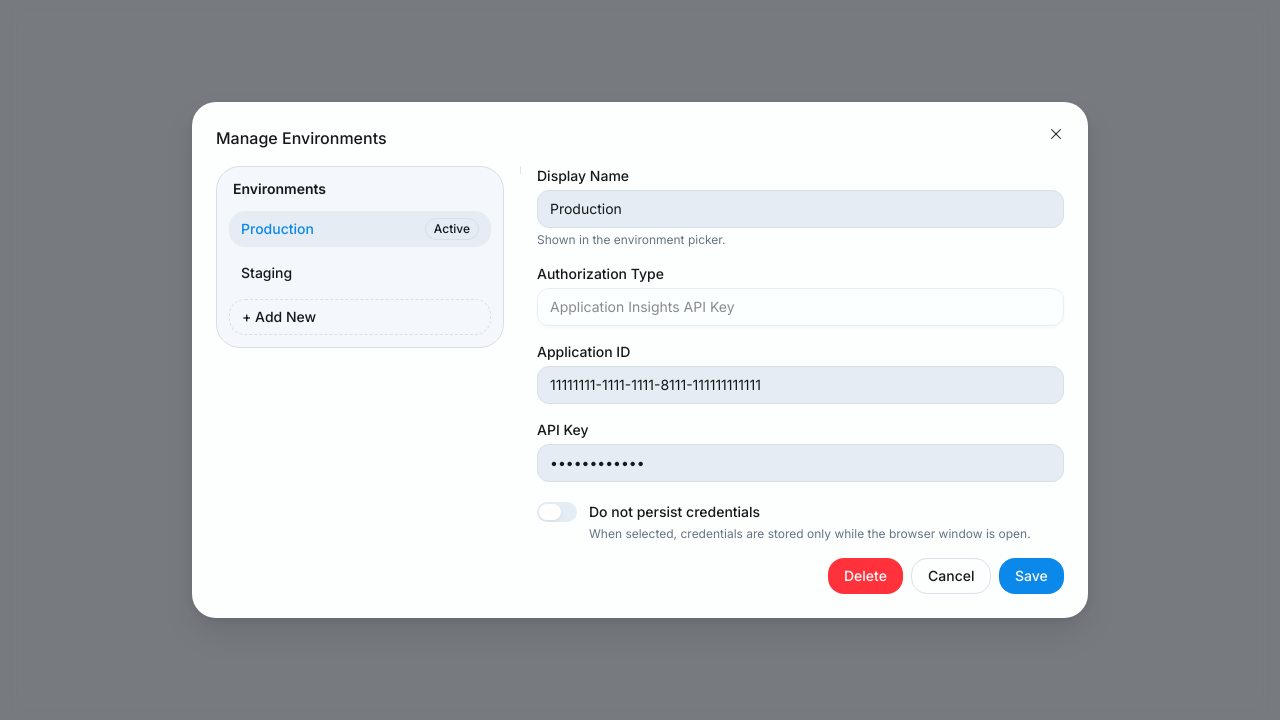
Test: LogAnalyzerDialog › selects a persisted environment from the fallback list when the store is empty
Click the button "Staging" at (267,272), box [229,255,491,291]
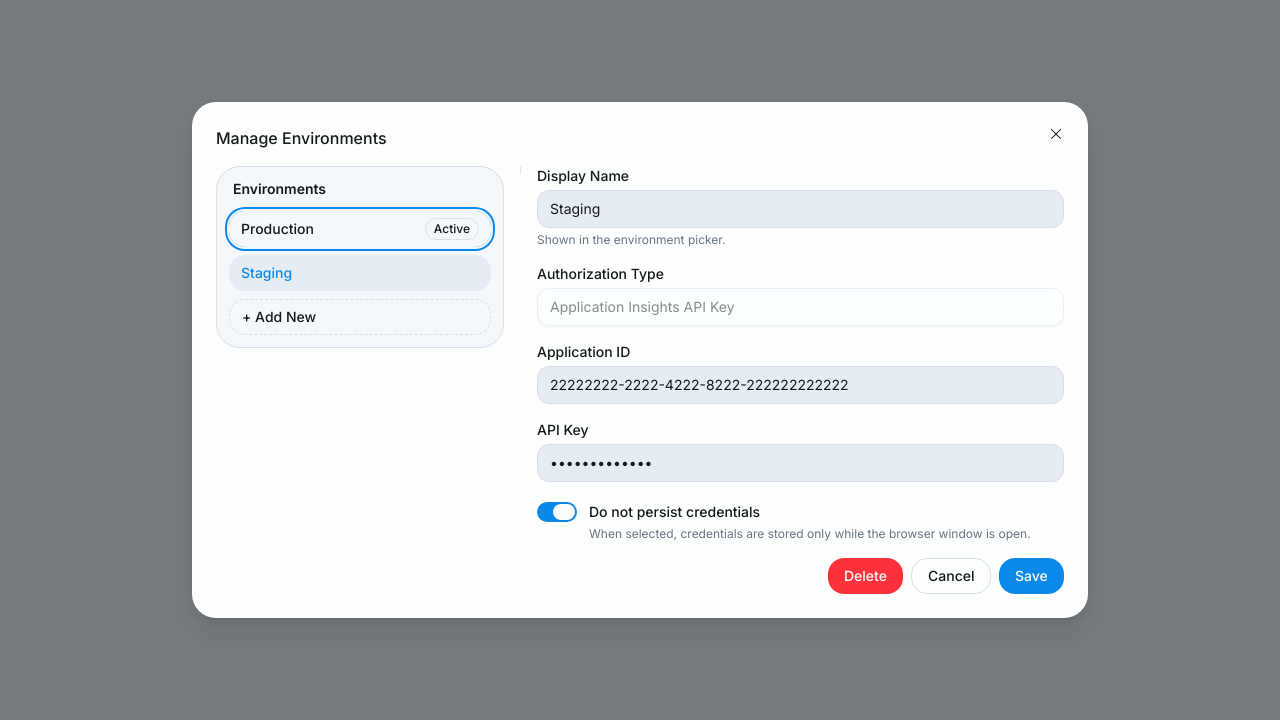
Expected: the password field labelled "API Key" holds "stage-api-key", [537,444,1064,482]
Now the field labelled "Display Name" holds "Staging", box [537,190,1064,228]
Now the field labelled "Application ID" holds "22222222-2222-4222-8222-222222222222", box [537,366,1064,404]
